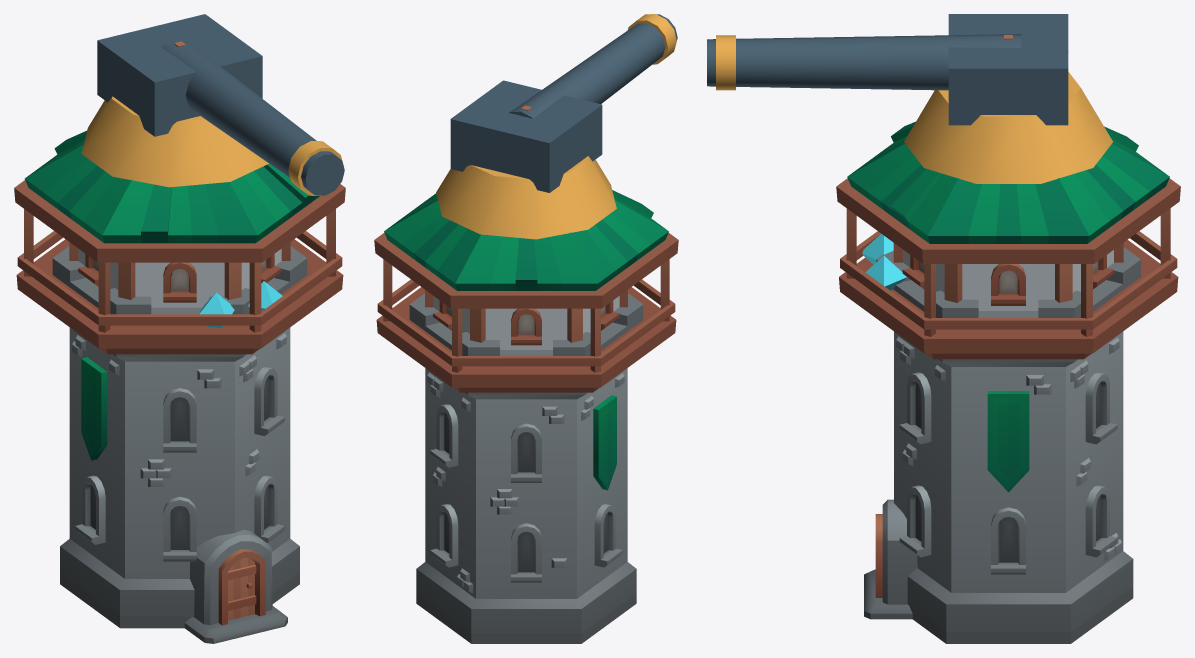
The model's file is tower_sniper_l2.glb.
3 views of the same model, side by side, from view 1: azimuth 30°, elevation 25°; view 2: azimuth 150°, elevation 25°; view 3: azimuth 270°, elevation 25° (orthographic). The views are drawn at different scales.
Visible parts, largest first — view 1: Base, building_tower_B_top_green, BarrelAssembly, Turret; view 2: Base, building_tower_B_top_green, BarrelAssembly, Turret; view 3: Base, building_tower_B_top_green, BarrelAssembly, Turret.
Boxes of the visible parts, x1,y1,x2,y2 form: Base: [52, 246, 307, 643]; building_tower_B_top_green: [14, 41, 345, 354]; BarrelAssembly: [97, 14, 344, 196]; Turret: [81, 96, 268, 187]; Base: [409, 293, 643, 643]; building_tower_B_top_green: [374, 105, 678, 392]; BarrelAssembly: [450, 14, 677, 192]; Turret: [436, 156, 616, 239]; Base: [862, 233, 1140, 643]; building_tower_B_top_green: [836, 35, 1180, 359]; BarrelAssembly: [707, 14, 1068, 125]; Turret: [904, 72, 1112, 183].
Bounding box in the file's own units: 1.2 × 2.49 × 1.9.
Materials: 4 (1 with a texture image).
